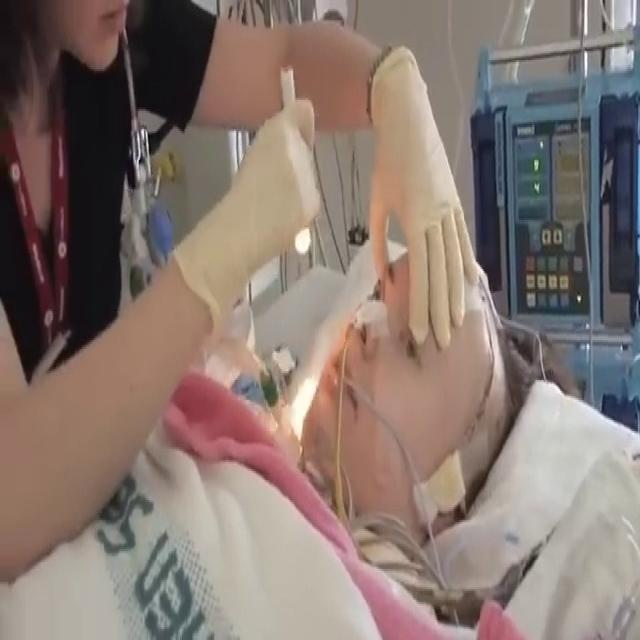patient: (0, 238, 638, 638)
